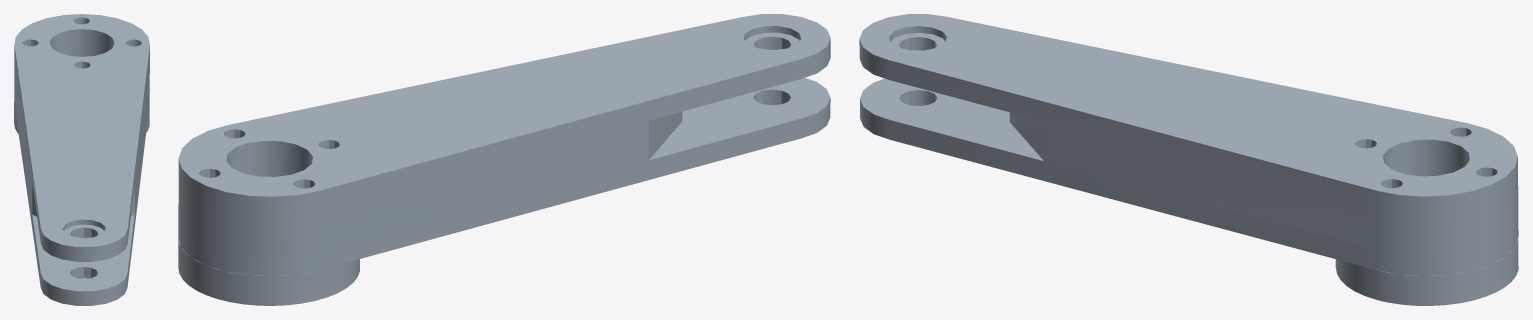
The model's file is fr_llink4.dae.
3 renders of one model, left to right at view 1: azimuth 30°, elevation 25°; view 2: azimuth 150°, elevation 25°; view 3: azimuth 270°, elevation 25°, orthographic. The views are drawn at different scales.
Parts seen in each view (by area): view 1: tmp_export_fr_llink4; view 2: tmp_export_fr_llink4; view 3: tmp_export_fr_llink4.
Part boxes in pixels (<box>): tmp_export_fr_llink4: <box>14,14,149,305</box>; tmp_export_fr_llink4: <box>178,14,830,305</box>; tmp_export_fr_llink4: <box>859,14,1518,305</box>.
Bounding box in the file's own units: 0.06 × 0.0901 × 0.0167.
